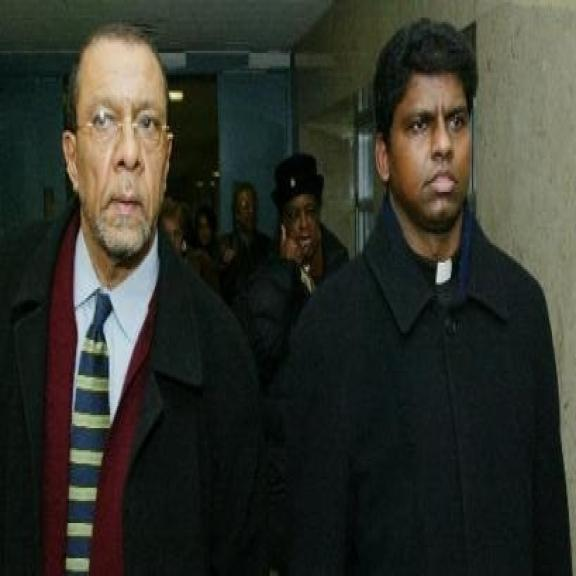face: (62, 20, 174, 262), (370, 19, 480, 230), (272, 173, 326, 261), (232, 182, 265, 234)
